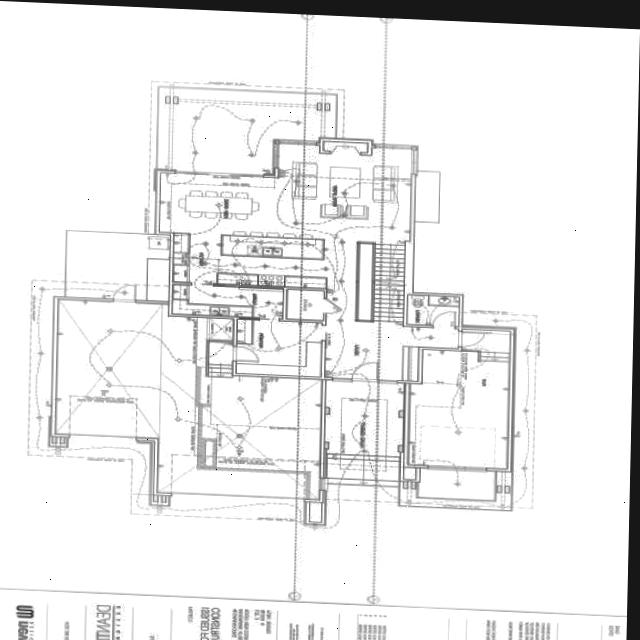room: (408, 327, 510, 468), (235, 319, 323, 376), (172, 284, 284, 318), (407, 294, 460, 326), (286, 289, 324, 319)
